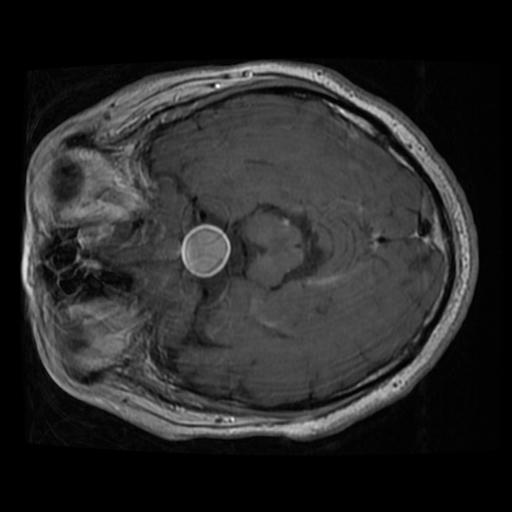pituitary tumour: (182, 225, 231, 277)
